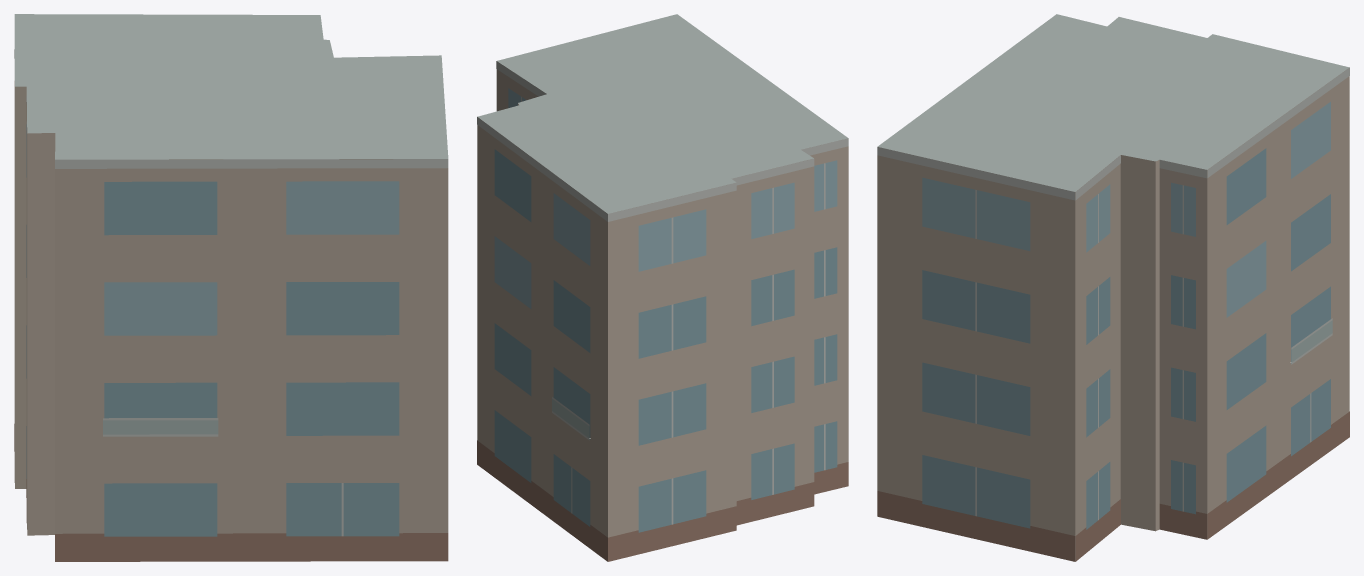
The model's file is survey-upis-32947301.glb.
3 views of the same model, side by side, from view 1: azimuth 30°, elevation 25°; view 2: azimuth 150°, elevation 25°; view 3: azimuth 270°, elevation 25° (orthographic). The views are drawn at different scales.
Parts seen in each view (by area): view 1: survey-upis-32947301.tmp; view 2: survey-upis-32947301.tmp; view 3: survey-upis-32947301.tmp.
Boxes of the visible parts, bbox=[...] form: survey-upis-32947301.tmp: bbox=[14, 14, 448, 561]; survey-upis-32947301.tmp: bbox=[477, 14, 848, 561]; survey-upis-32947301.tmp: bbox=[877, 14, 1349, 561].
Size of the model in its own units: 10.95 by 10.6 by 12.28.
